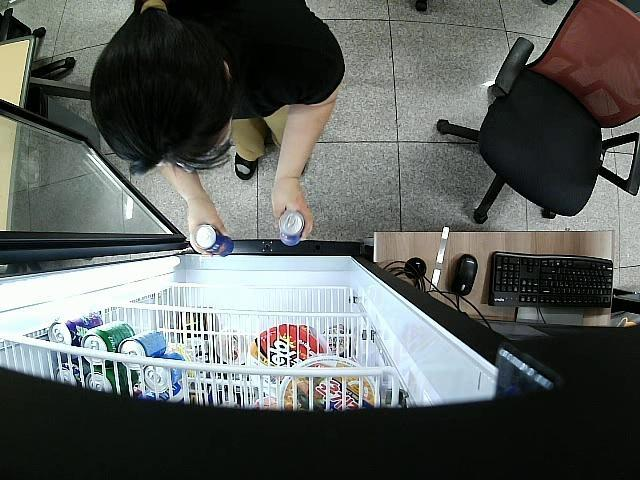16_hot6: (193, 225, 234, 257), (278, 211, 306, 248)
